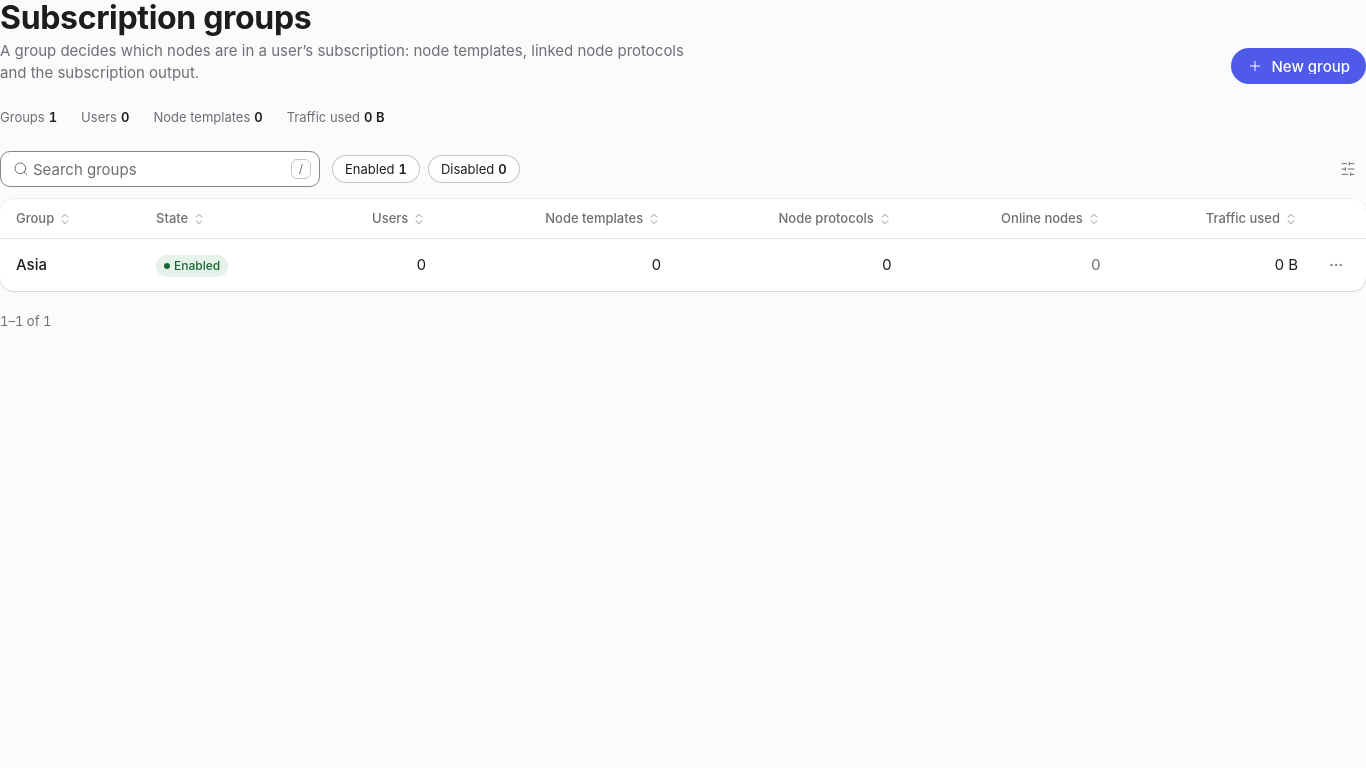
Test case: Admin subscription groups › dialogs and feedback › lists the subscription links as copy fields, signed with the admin token
Check: the text "Asia" is shown, box x1=16 y1=255 x2=47 y2=274
Click the button named "Actions for Asia". click: (1336, 265)
box: x1=1322 y1=251 x2=1350 y2=279
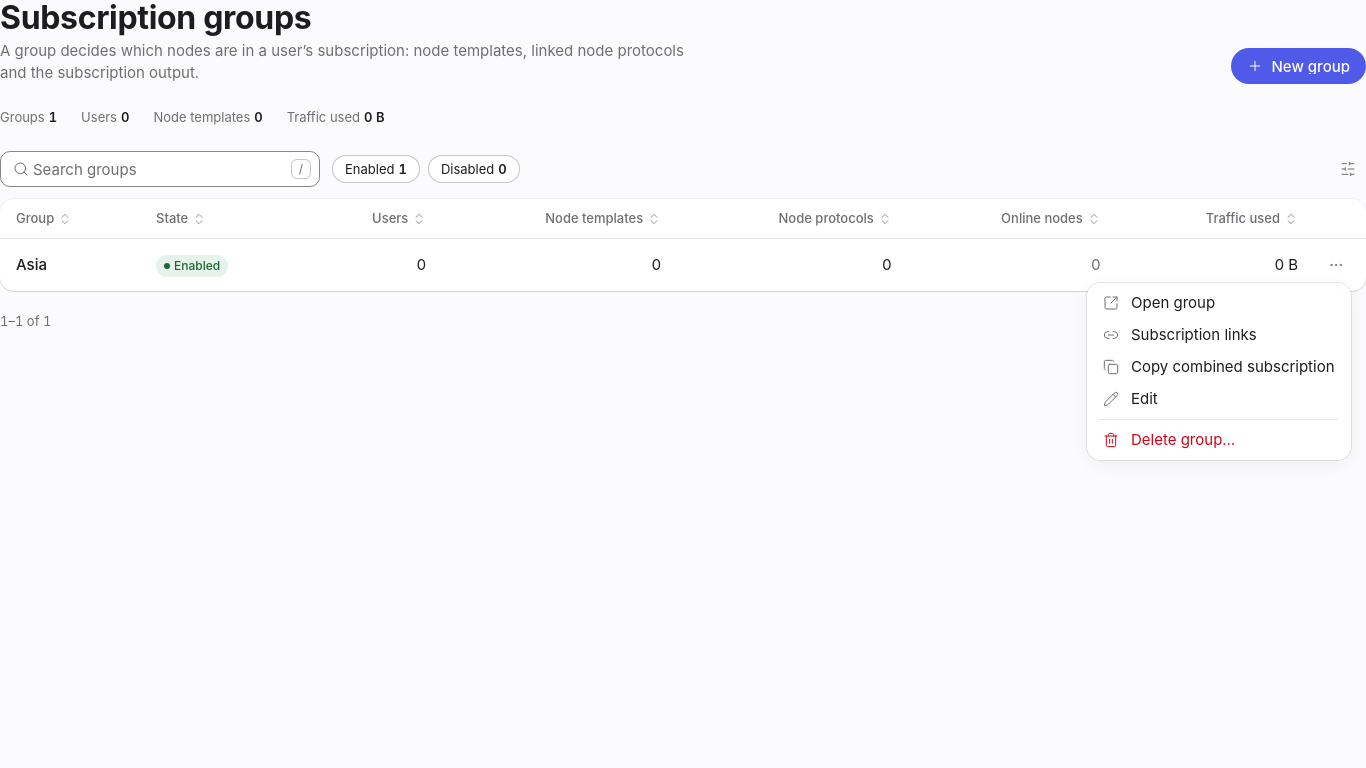
Click the menu item "Subscription links". click: (1180, 334)
box: x1=1103 y1=325 x2=1257 y2=344
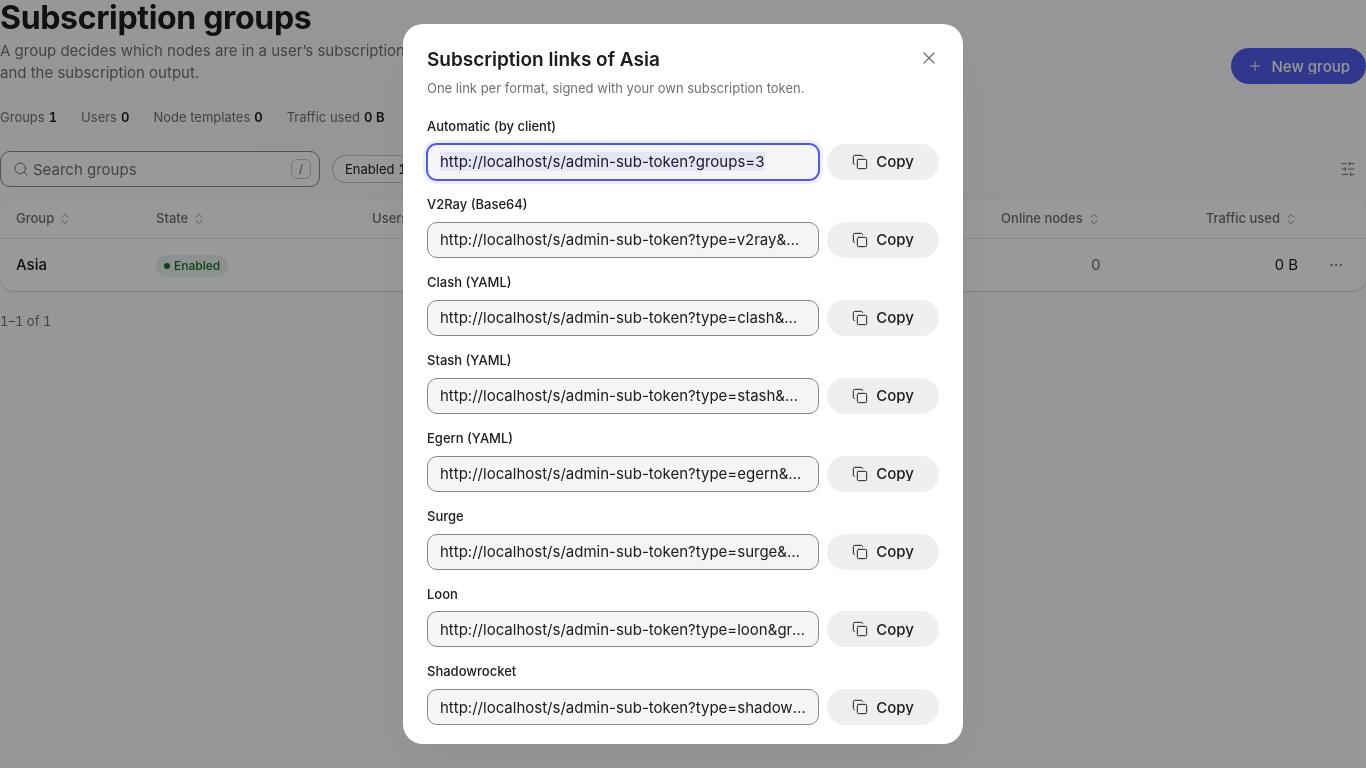
Check: the number of buttons "Copy" is 11
